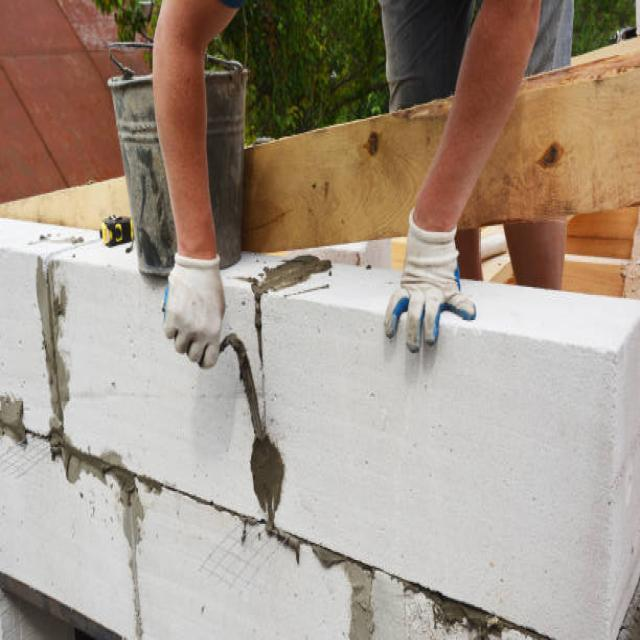gloves: (385, 208, 478, 358), (163, 253, 227, 370)
